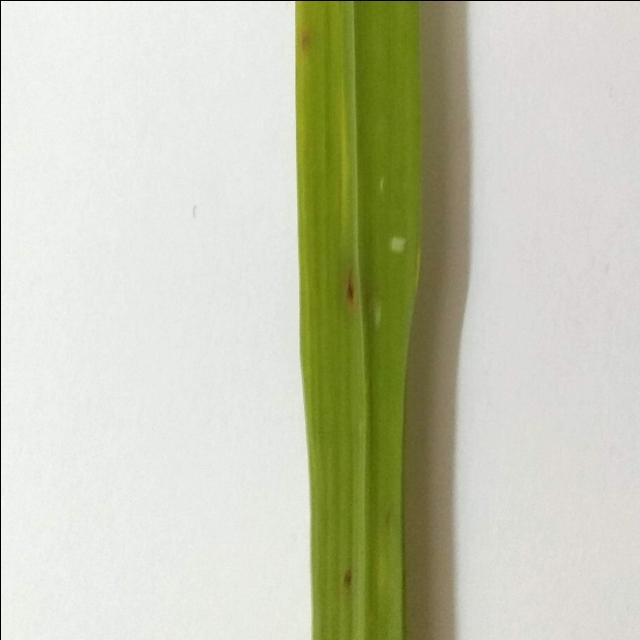Brown spot: (332, 266, 364, 312), (294, 12, 318, 73), (336, 562, 358, 592)
